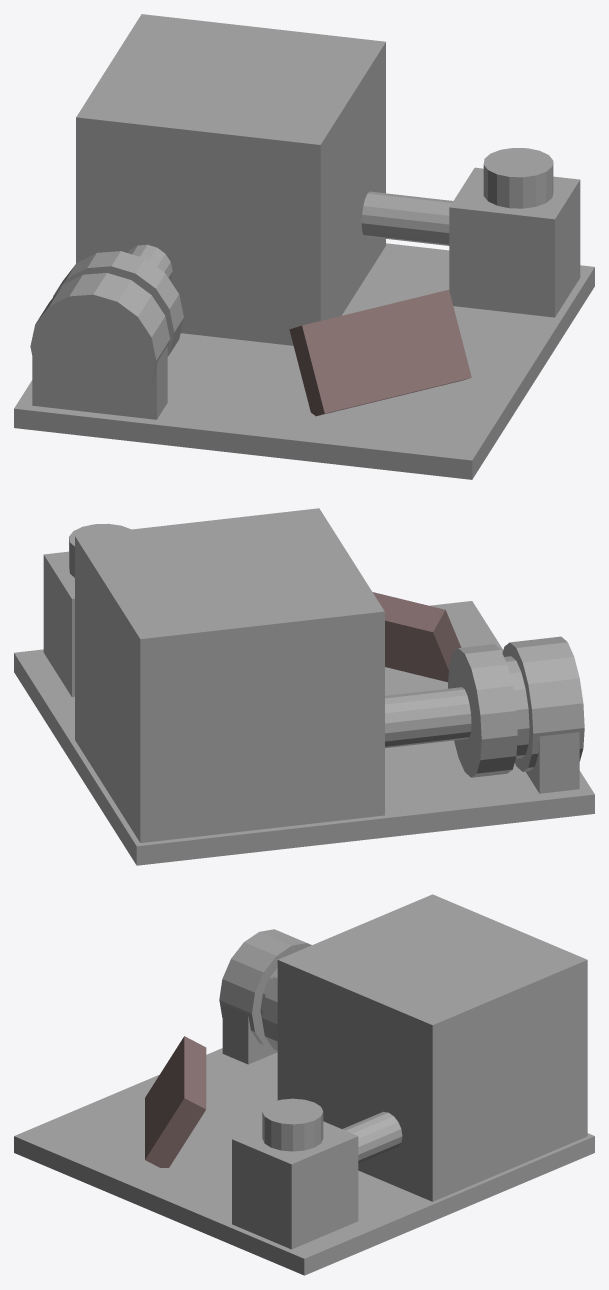
The model's file is AtomicAnalyzer.fbx.
3 views of the same model, one above another, from view 1: azimuth 30°, elevation 25°; view 2: azimuth 150°, elevation 25°; view 3: azimuth 270°, elevation 25° (orthographic). The views are drawn at different scales.
Visible parts, largest first — view 1: AtomicAnalyzer; view 2: AtomicAnalyzer; view 3: AtomicAnalyzer.
Boxes of the visible parts, <box> form: AtomicAnalyzer: <box>14,14,594,479</box>; AtomicAnalyzer: <box>14,508,594,865</box>; AtomicAnalyzer: <box>14,894,594,1275</box>.
Bounding box in the file's own units: 163 × 59.92 × 163.
